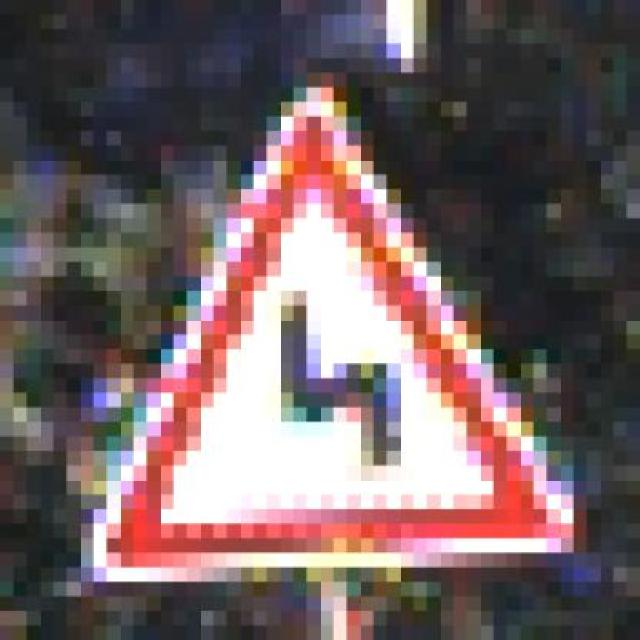Left Zig Zag Traffic: (53, 58, 587, 582)
